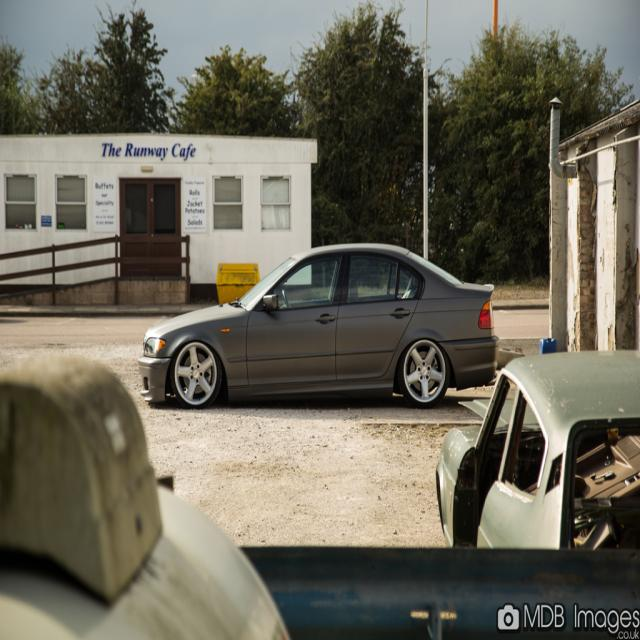car: (135, 239, 500, 407)
